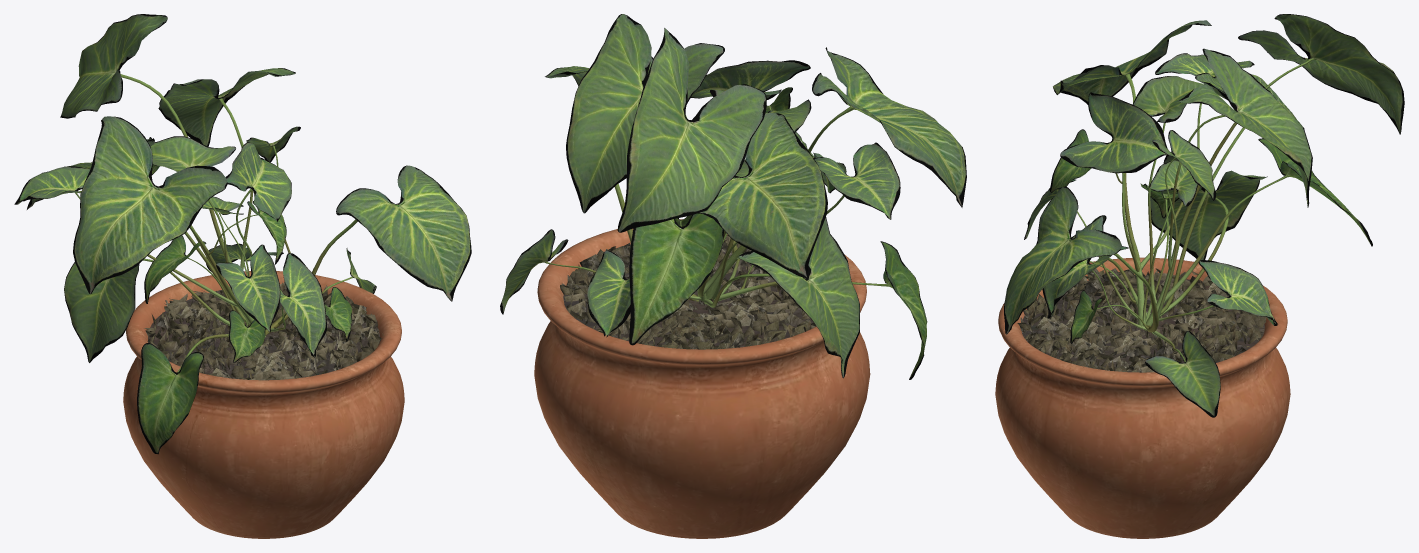
3 views of the same model, side by side, from view 1: azimuth 30°, elevation 25°; view 2: azimuth 150°, elevation 25°; view 3: azimuth 270°, elevation 25° (orthographic). The views are drawn at different scales.
Visible parts, largest first — view 1: potted_plant_02_leaves, potted_plant_02_pot, potted_plant_02_dirt; view 2: potted_plant_02_leaves, potted_plant_02_pot, potted_plant_02_dirt; view 3: potted_plant_02_leaves, potted_plant_02_pot, potted_plant_02_dirt.
Part boxes in pixels (x1,y1,x2,y2): potted_plant_02_leaves: (14,14,471,454); potted_plant_02_pot: (123,271,404,538); potted_plant_02_dirt: (144,282,383,380); potted_plant_02_leaves: (500,14,966,379); potted_plant_02_pot: (534,219,870,538); potted_plant_02_dirt: (560,235,816,349); potted_plant_02_leaves: (1004,14,1404,417); potted_plant_02_pot: (995,257,1290,538); potted_plant_02_dirt: (1017,268,1266,372).
Size of the model in its own units: 0.7012 by 0.8412 by 0.6574.
2 materials, 2 textured.
